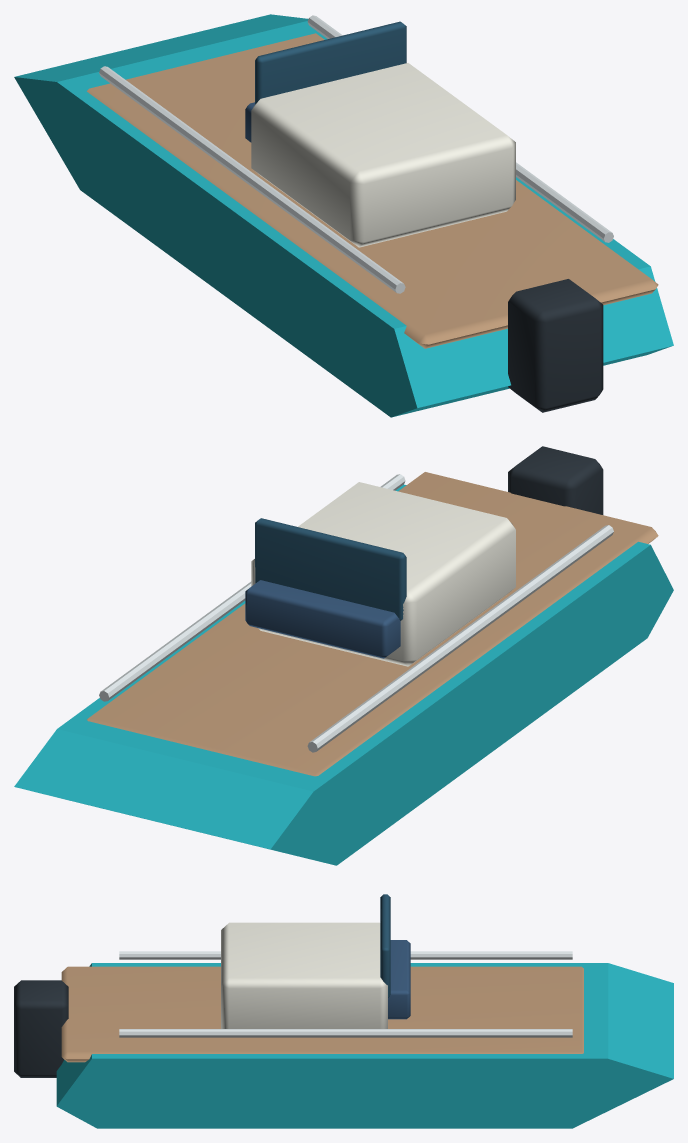
File: boat.glb
3 renders of one model, top to bottom at view 1: azimuth 30°, elevation 25°; view 2: azimuth 150°, elevation 25°; view 3: azimuth 270°, elevation 25°, orthographic. The views are drawn at different scales.
Parts seen in each view (by area): view 1: boat_hull, boat_deck, boat_cockpit, boat_outboard, boat_windscreen, boat_side_rail, boat_side_rail.001; view 2: boat_hull, boat_deck, boat_cockpit, boat_windscreen, boat_console, boat_outboard, boat_side_rail, boat_side_rail.001; view 3: boat_hull, boat_deck, boat_cockpit, boat_outboard, boat_side_rail.001, boat_side_rail, boat_console, boat_windscreen.
Part boxes in pixels (box(x1,y1,x2,y2)): boat_hull: box(14, 14, 673, 417); boat_deck: box(87, 33, 658, 348); boat_cockpit: box(251, 63, 515, 247); boat_outboard: box(508, 279, 603, 412); boat_windscreen: box(255, 21, 406, 104); boat_side_rail: box(99, 66, 405, 293); boat_side_rail.001: box(307, 15, 613, 242); boat_hull: box(14, 484, 673, 865); boat_deck: box(87, 472, 658, 776); boat_cockpit: box(251, 482, 515, 666); boat_windscreen: box(255, 518, 406, 620); boat_console: box(245, 580, 400, 658); boat_outboard: box(508, 446, 603, 514); boat_side_rail: box(307, 525, 613, 752); boat_side_rail.001: box(99, 474, 405, 701); boat_hull: box(56, 963, 673, 1128); boat_deck: box(61, 966, 583, 1062); boat_cockpit: box(221, 922, 387, 1028); boat_outboard: box(14, 980, 68, 1077); boat_side_rail.001: box(119, 1029, 572, 1037); boat_side_rail: box(119, 951, 572, 959); boat_console: box(388, 940, 410, 1019); boat_windscreen: box(380, 894, 390, 997).
Bounding box in the file's own units: 2.24 × 1.74 × 6.52.
